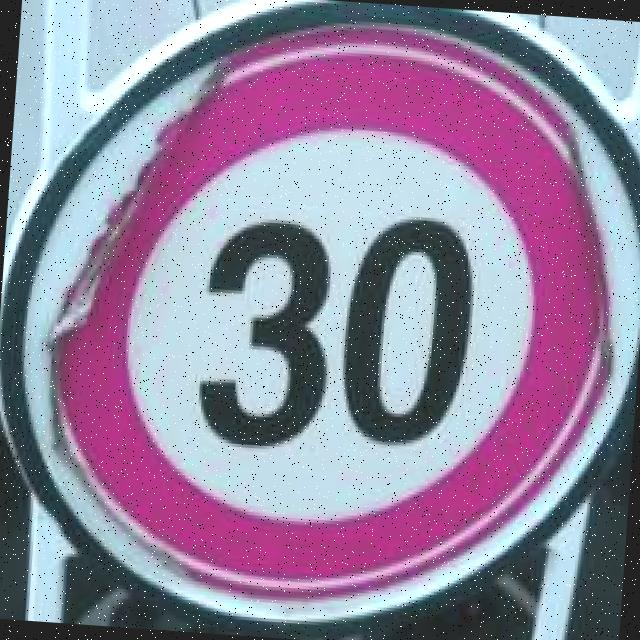Ograniczenie predkosci do 30: (47, 21, 621, 611)
